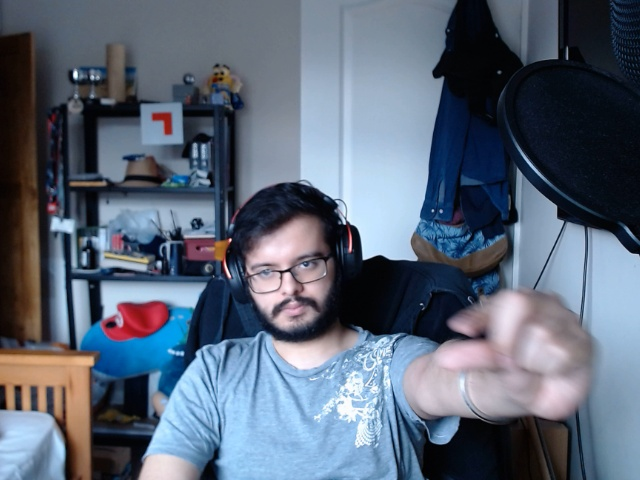Small: (433, 277, 607, 434)
